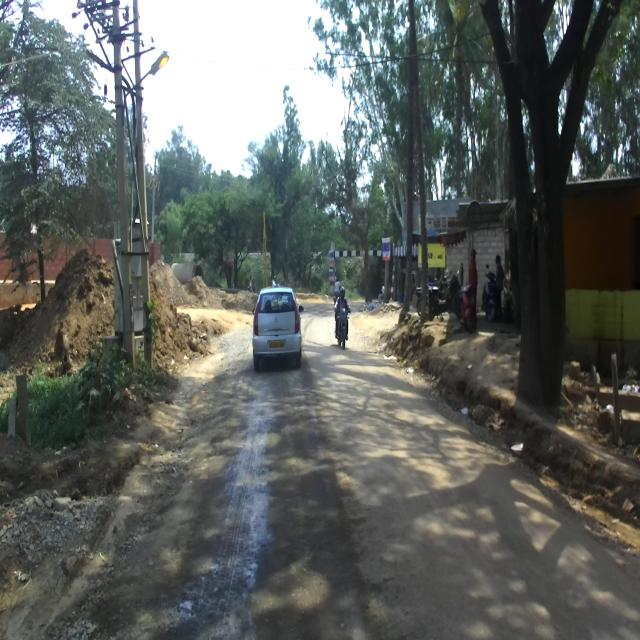car ahead at: (248, 279, 306, 366)
electric pole ahead at: (90, 0, 154, 372)
tree ahead at: (496, 1, 580, 404)
